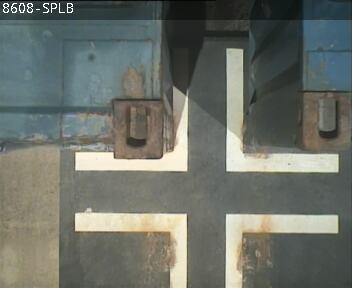groundmarker_1: (76, 48, 340, 171), (74, 211, 339, 288)
